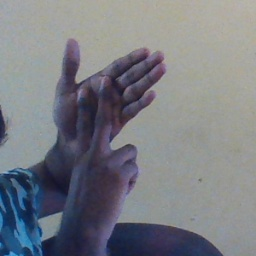N: (43, 32, 169, 187)
